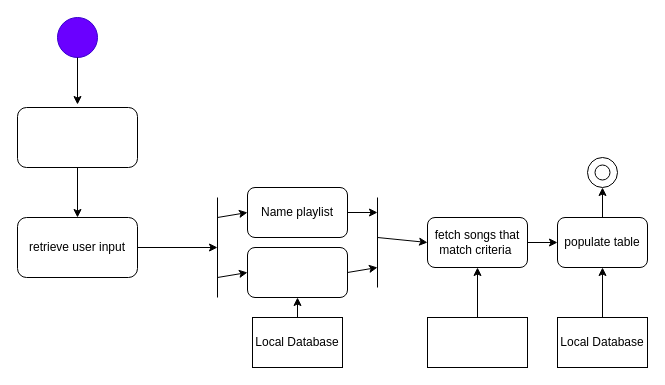
Some shapes in this 665 by 385 pixel diagram are drawn without their labels. Each missing label, with the centre of its shape:
"Create playlist button is pressed" goes at [77,137].
"Define characteristics of playlist" goes at [297,272].
"Spotify Database" goes at [477,342].
